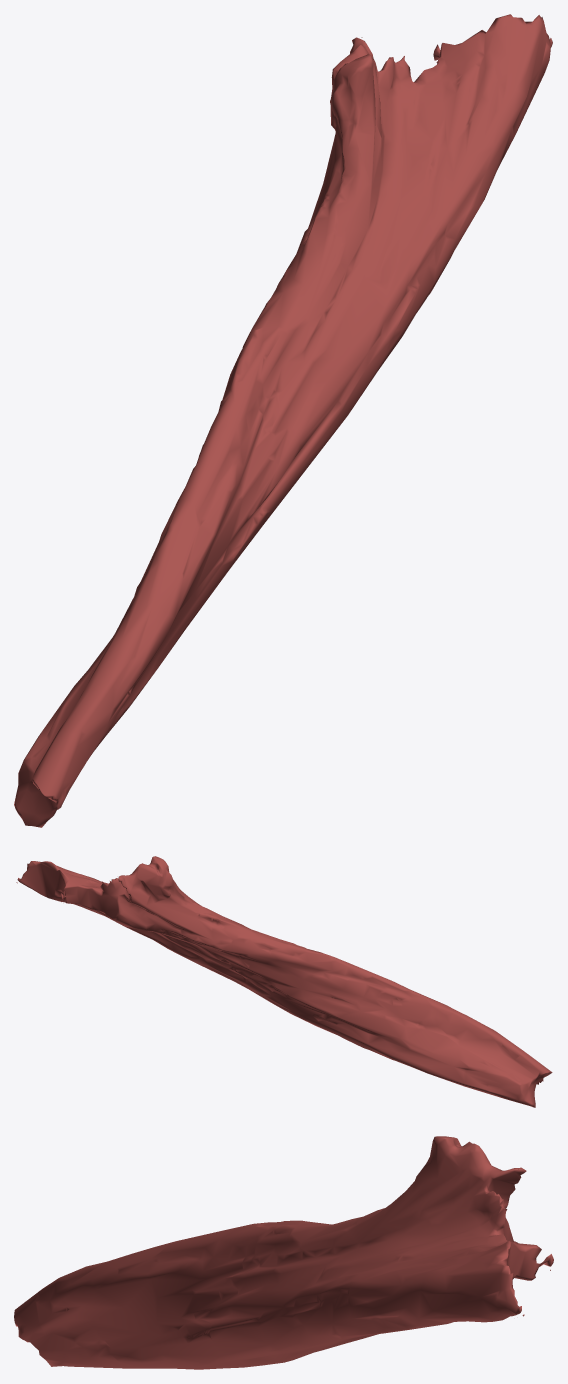
The model's file is FMA46110.glb.
3 views of the same model, one above another, from view 1: azimuth 30°, elevation 25°; view 2: azimuth 150°, elevation 25°; view 3: azimuth 270°, elevation 25° (orthographic). The views are drawn at different scales.
Parts seen in each view (by area): view 1: FMA46110; view 2: FMA46110; view 3: FMA46110.
Part boxes in pixels (x1=…): FMA46110: x1=14, y1=14, x2=552, y2=827; FMA46110: x1=16, y1=856, x2=552, y2=1107; FMA46110: x1=14, y1=1136, x2=553, y2=1369.
Size of the model in its own units: 0.0452 by 0.0276 by 0.028.
